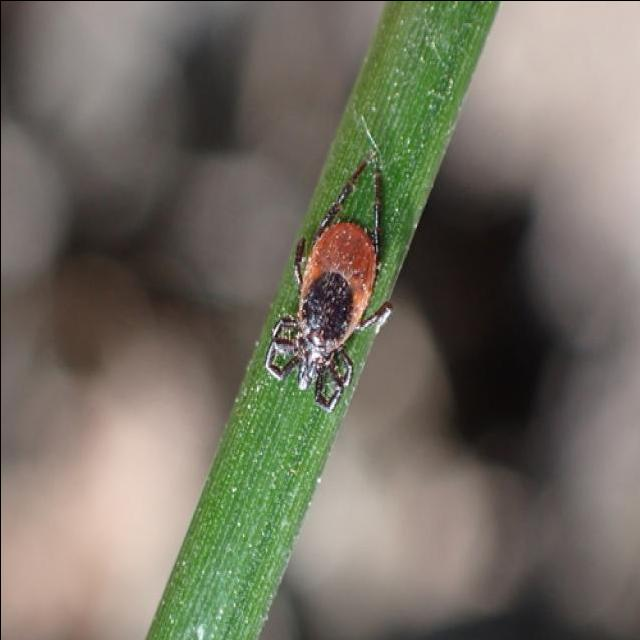Ixodes Ricinus-F: (265, 147, 393, 411)
